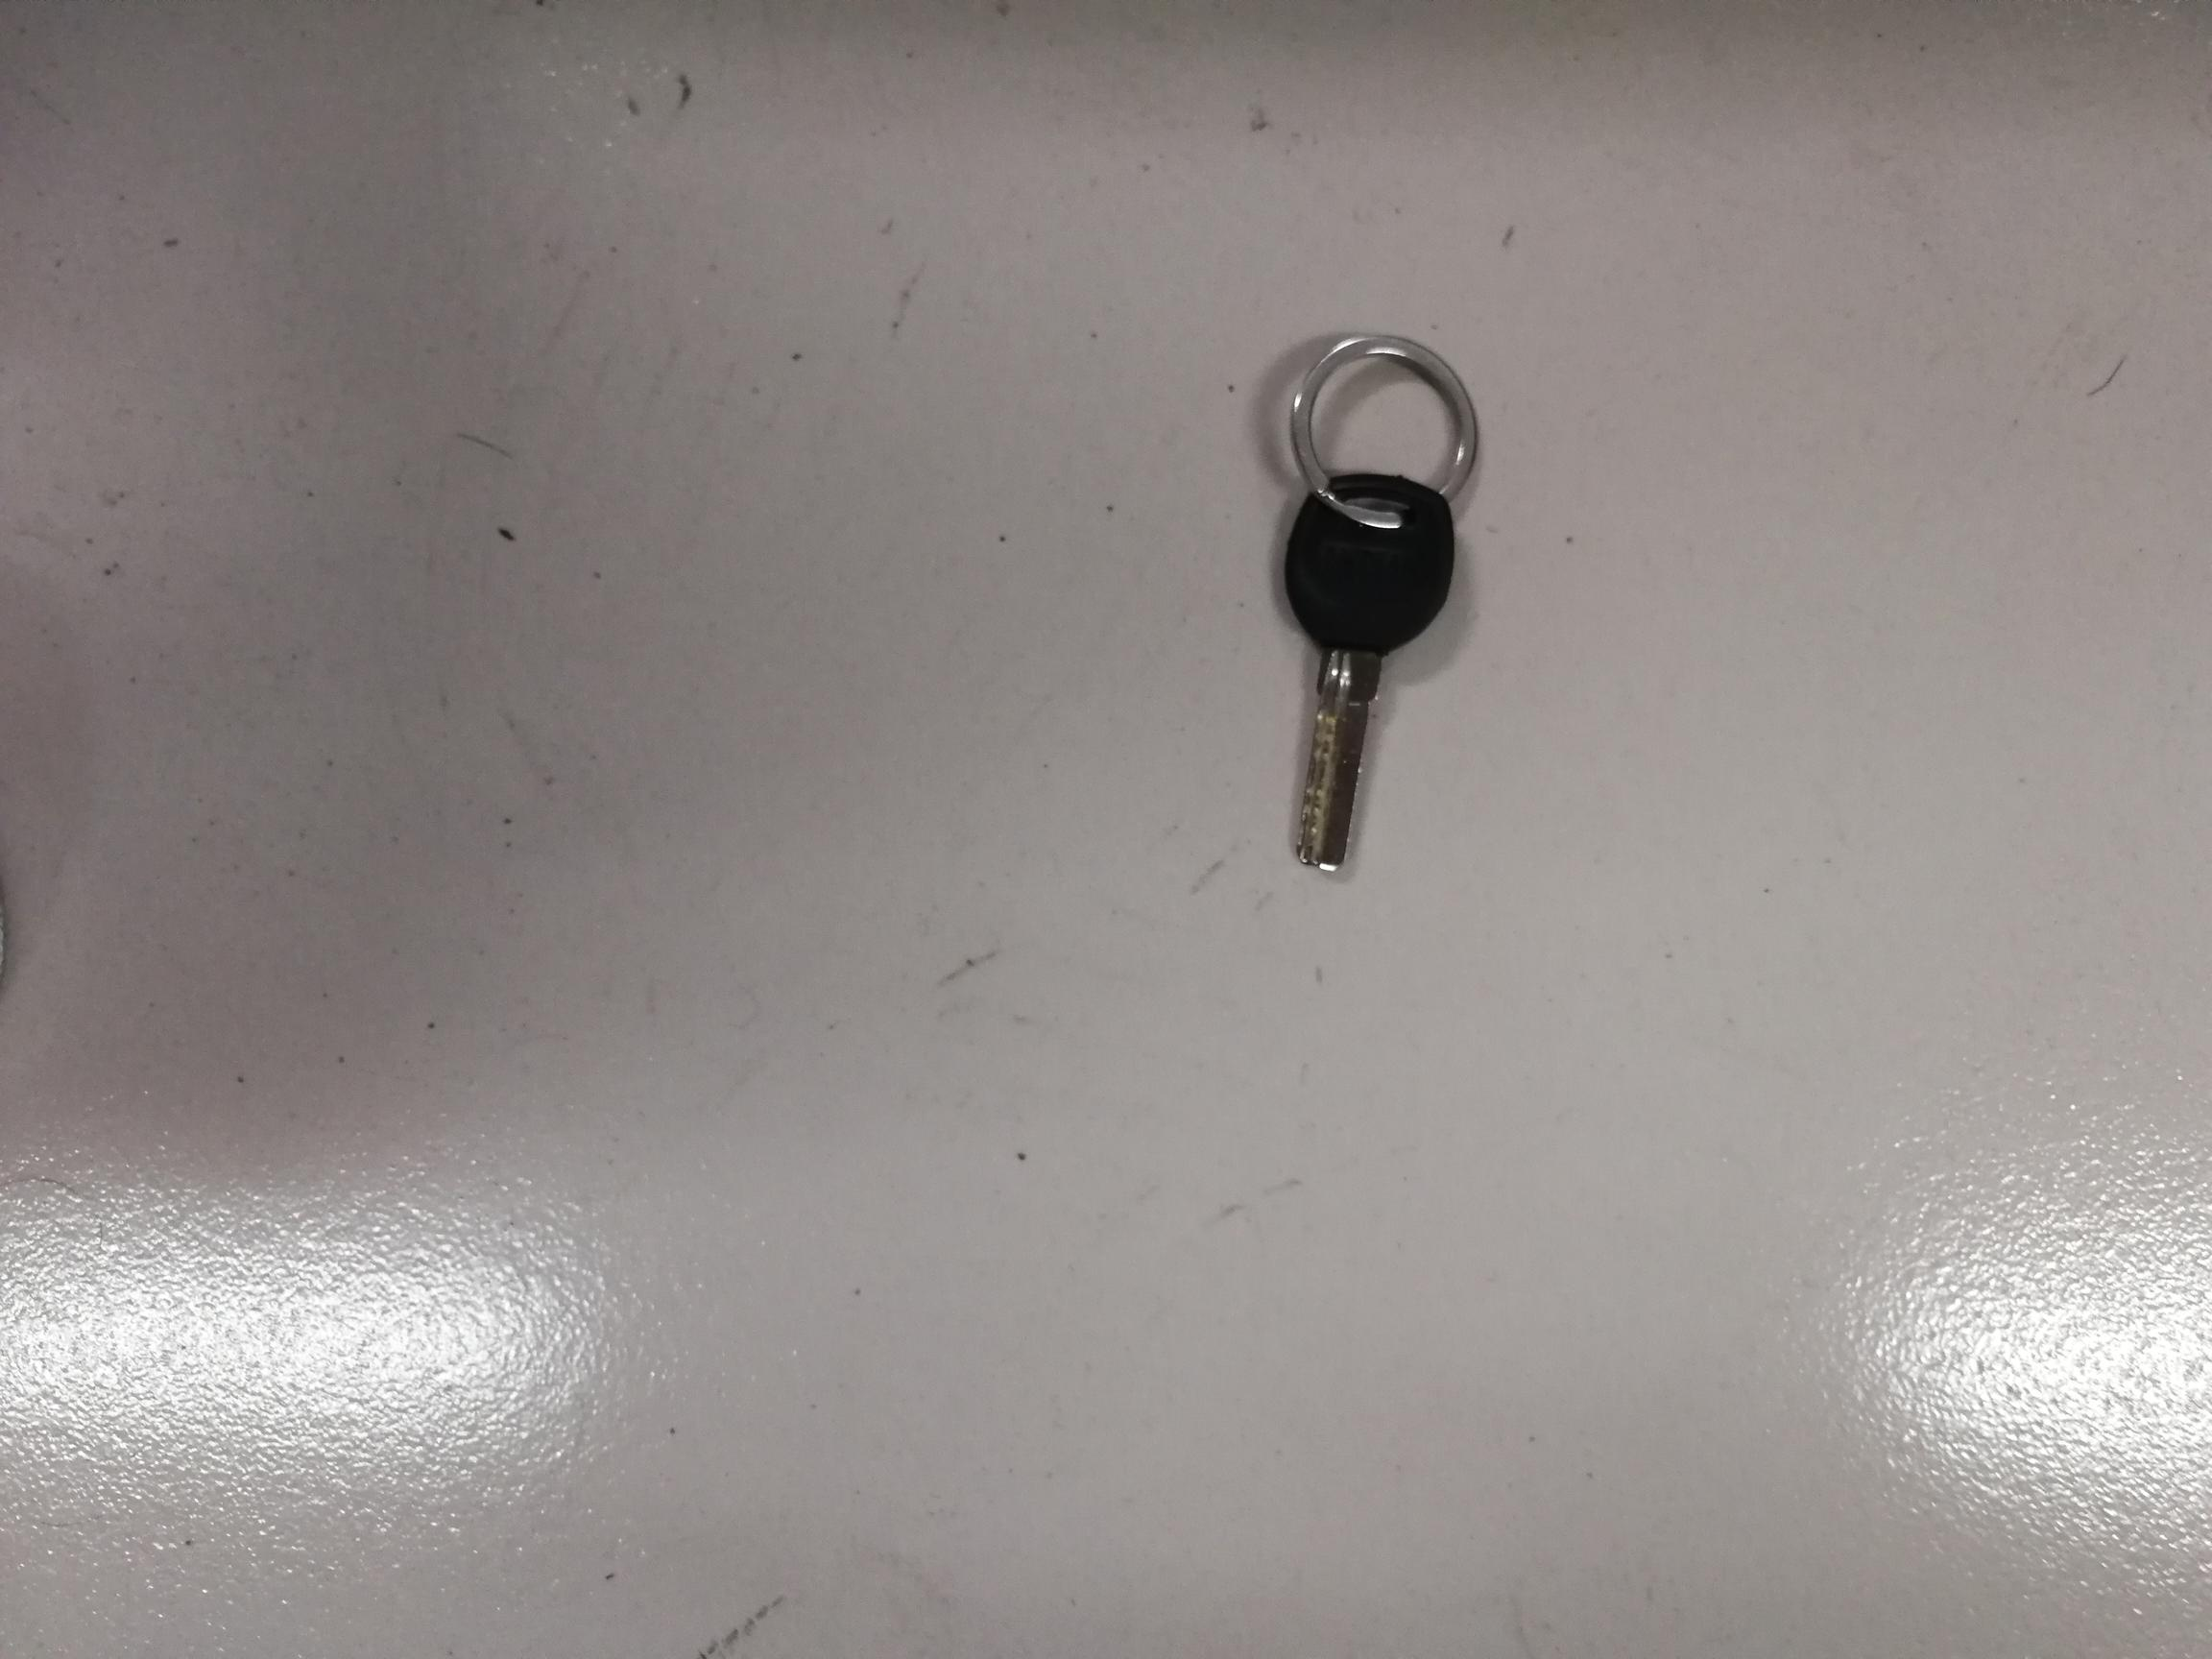key: (1268, 326, 1484, 882)
